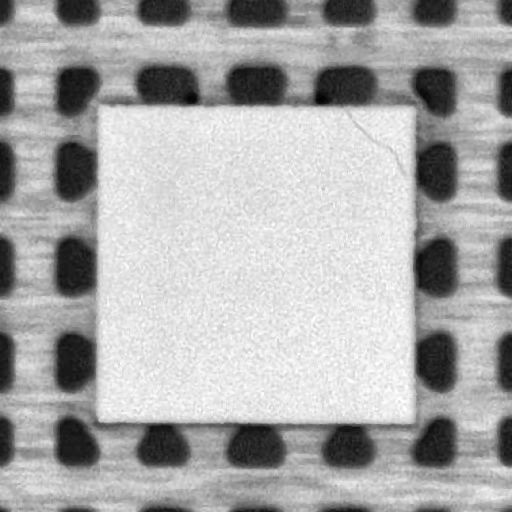DIE_CRACK: (344, 105, 408, 177)
